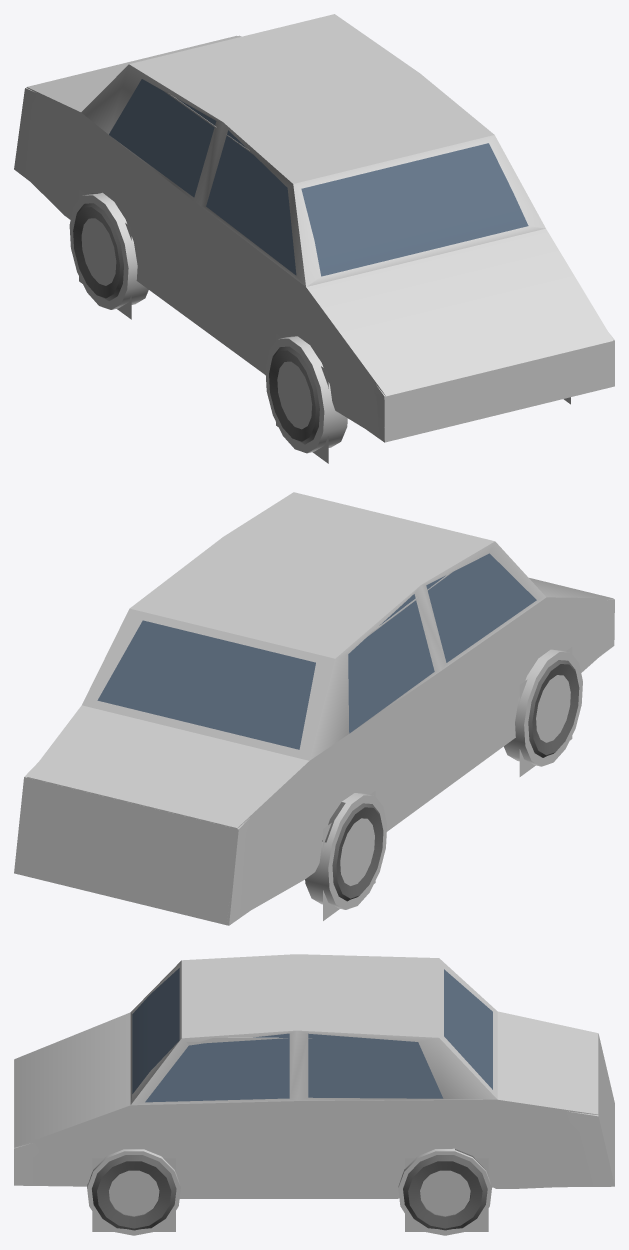
Rendered from E_Car02.fbx.
3 views of the same model, one above another, from view 1: azimuth 30°, elevation 25°; view 2: azimuth 150°, elevation 25°; view 3: azimuth 270°, elevation 25° (orthographic). The views are drawn at different scales.
Visible parts, largest first — view 1: hp_e_car02, lp_e_car02, mp_e_car02; view 2: hp_e_car02, lp_e_car02, mp_e_car02; view 3: hp_e_car02, lp_e_car02, mp_e_car02.
Part boxes in pixels (x1,y1,x2,y2): hp_e_car02: (24, 14, 612, 444); lp_e_car02: (14, 35, 614, 463); mp_e_car02: (69, 92, 614, 453); hp_e_car02: (17, 492, 613, 923); lp_e_car02: (14, 572, 614, 925); mp_e_car02: (305, 571, 614, 909); hp_e_car02: (14, 954, 614, 1230); lp_e_car02: (14, 1034, 614, 1231); mp_e_car02: (14, 1142, 491, 1235).
Size of the model in its own units: 174 by 156 by 437.
